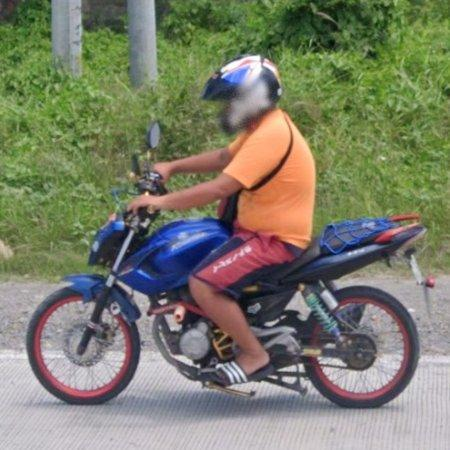motorcycles: (26, 196, 237, 405), (241, 215, 427, 409), (133, 122, 167, 195)
